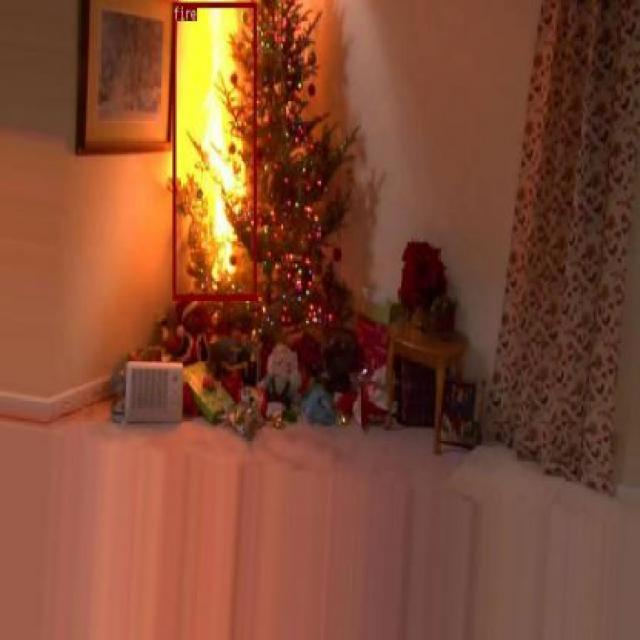Fire: (172, 2, 255, 298)
